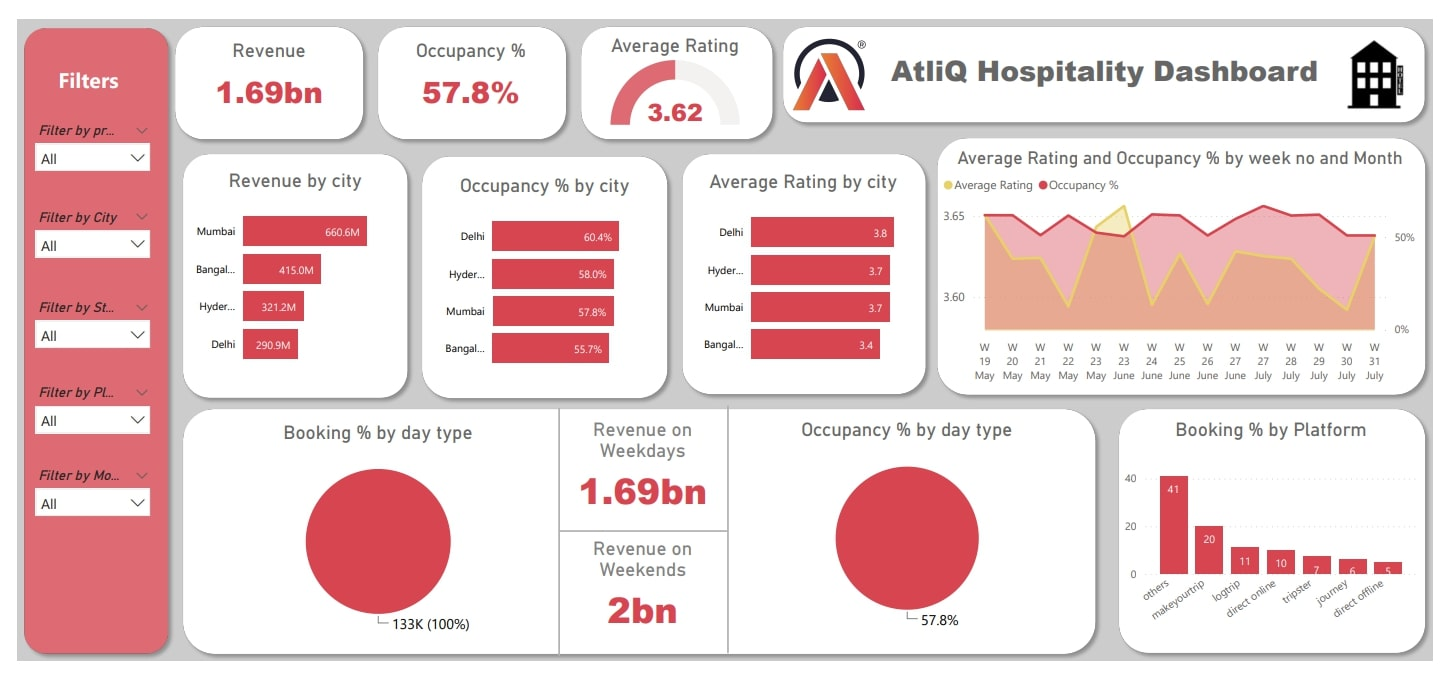

The dashboard page shown, as its layout file describes it:
{"tool":"powerbi","page":{"name":"Duplicate of Dashboard","canvas":[1800,1100],"ordinal":3},"visuals":[{"type":"shape","box":[0,0,1800,83.3],"z":0},{"type":"group","id":"g1","title":"statement","box":[29.4,209.7,566.4,284.3],"z":0,"group":"g4"},{"type":"tableEx","fields":{"Values":["key_measures.Revenue WoW change %"]},"box":[72.7,266.4,105,60],"z":0,"group":"g2"},{"type":"tableEx","fields":{"Values":["key_measures.Realisation WoW change %"]},"box":[465.6,434,130,59],"z":0,"group":"g1"},{"type":"shape","box":[50.8,503.5,533.3,70],"z":0,"group":"g3"},{"type":"shape","box":[1097.2,190,688.3,301.7],"z":1000},{"type":"group","id":"g2","title":"RRD group","box":[29.4,209.7,563.8,116.7],"z":1000,"group":"g1"},{"type":"card","title":"Revenue","fields":{"Values":["key_measures.Revenue"]},"box":[29.4,213.7,171.7,83.3],"z":1000,"group":"g2"},{"type":"group","id":"g3","title":"Group 1","box":[50.8,503.5,533.3,165],"z":1000,"group":"g4"},{"type":"tableEx","fields":{"Values":["dim_date.day_type","key_measures.RevPAR","key_measures.Occupancy %","key_measures.ADR","key_measures.Realisation %"]},"box":[87.5,546.8,463.3,121.7],"z":1000,"group":"g3"},{"type":"shape","box":[633.9,190,453.3,301.7],"z":2000},{"type":"tableEx","fields":{"Values":["key_measures.Revpar WoW change %"]},"box":[274.7,266.2,105.5,58.9],"z":2000,"group":"g2"},{"type":"card","title":"Realisation %","fields":{"Values":["key_measures.Realisation %"]},"box":[421.8,371.7,174,93],"z":2000,"group":"g1"},{"type":"tableEx","fields":{"Values":["key_measures.DSRN WoW change %"]},"box":[473.2,266.7,106,58],"z":3000,"group":"g2"},{"type":"tableEx","fields":{"Values":["key_measures.ADR WoW change %"]},"box":[282.1,432.7,105,61],"z":3000,"group":"g1"},{"type":"shape","box":[630.6,500,1155,493.3],"z":3000},{"type":"card","title":"RevPre","fields":{"Values":["key_measures.RevPAR"]},"box":[228.7,210.7,168,87],"z":4000,"group":"g2"},{"type":"card","title":"ADR","fields":{"Values":["key_measures.ADR"]},"box":[234.3,371.7,163,93],"z":4000,"group":"g1"},{"type":"shape","box":[16.7,693.3,596.7,300],"z":4000},{"type":"shape","box":[632.2,102,1155,80],"z":5000},{"type":"card","title":"DSRN","fields":{"Values":["key_measures.DSRN"]},"box":[425.2,209.7,168,87],"z":5000,"group":"g2"},{"type":"tableEx","fields":{"Values":["key_measures.Occupancy WoW change %"]},"box":[79.8,432.7,123.9,61.3],"z":5000,"group":"g1"},{"type":"shape","box":[15,103.3,596.7,80],"z":6000},{"type":"card","title":"Occupancy","fields":{"Values":["key_measures.Occupancy %"]},"box":[48.8,370.7,161,93],"z":6000,"group":"g1"},{"type":"shape","box":[16.7,191.7,596.7,490],"z":7000},{"type":"tableEx","title":"Property By Key Matrices","fields":{"Values":["dim_hotals.property_id","dim_hotals.property_name","dim_hotals.city","key_measures.Revenue","key_measures.Total Bookings","key_measures.RevPAR","key_measures.Occupancy %","key_measures.ADR","key_measures.DBRN","key_measures.DSRN","key_measures.DURN","key_measures.Realisation %"]},"box":[641.7,516.7,1120,450],"z":8000},{"type":"lineStackedColumnComboChart","title":"Realisation % and ADR  By Platform Booking","fields":{"Category":["fact_booking.booking_platform"],"Y":["key_measures.Realisation %"],"Y2":["key_measures.ADR"]},"box":[28.3,711.7,573.3,278.3],"z":10000},{"type":"group","id":"g4","title":"Group 2","box":[29.4,209.7,566.4,458.8],"z":11000},{"type":"donutChart","fields":{"Y":["key_measures.Revenue"],"Category":["dim_hotals.category"]},"box":[641.7,200,440,281.7],"z":12000},{"type":"lineChart","title":"Trends By Key Matrics","fields":{"Category":["dim_date.mmm yy.Variation.Date Hierarchy.Month","dim_date.week no"],"Y":["key_measures.RevPAR","key_measures.ADR"],"Y2":["key_measures.Occupancy %"]},"box":[1108.9,205,653.3,276.7],"z":13000},{"type":"slicer","fields":{"Values":["dim_hotals.city"]},"box":[51.7,113.3,198.3,61.7],"z":14000},{"type":"slicer","fields":{"Values":["dim_rooms.room_class"]},"box":[335,113.3,210,61.7],"z":15000},{"type":"slicer","fields":{"Values":["dim_date.mmm yy"]},"box":[637.2,108.7,305,61.7],"z":16000},{"type":"slicer","fields":{"Values":["dim_date.week no"]},"box":[1018.9,110,761.7,61.7],"z":17000},{"type":"shape","box":[20,1005,1763.3,83.3],"z":18000},{"type":"textbox","box":[275,1028.3,1300,45],"z":19000},{"type":"textbox","box":[613.3,0,746.7,83.3],"z":19500}]}

Visuals, with their boxes on the page's 1800x1100 design canvas (x1, y1, x2, y2). These are canvas units, not pixel positions in the 1454x680 screenshot, which may show the page scaled, cropped or inside an application window:
shape: (0, 0, 1800, 83)
"statement" group: (29, 210, 596, 494)
tableEx - key_measures.Revenue WoW change %: (73, 266, 178, 326)
tableEx - key_measures.Realisation WoW change %: (466, 434, 596, 493)
shape: (51, 504, 584, 574)
shape: (1097, 190, 1786, 492)
"RRD group" group: (29, 210, 593, 326)
"Revenue" card: (29, 214, 201, 297)
"Group 1" group: (51, 504, 584, 668)
tableEx - dim_date.day_type x key_measures.RevPAR: (88, 547, 551, 668)
shape: (634, 190, 1087, 492)
tableEx - key_measures.Revpar WoW change %: (275, 266, 380, 325)
"Realisation %" card: (422, 372, 596, 465)
tableEx - key_measures.DSRN WoW change %: (473, 267, 579, 325)
tableEx - key_measures.ADR WoW change %: (282, 433, 387, 494)
shape: (631, 500, 1786, 993)
"RevPre" card: (229, 211, 397, 298)
"ADR" card: (234, 372, 397, 465)
shape: (17, 693, 613, 993)
shape: (632, 102, 1787, 182)
"DSRN" card: (425, 210, 593, 297)
tableEx - key_measures.Occupancy WoW change %: (80, 433, 204, 494)
shape: (15, 103, 612, 183)
"Occupancy" card: (49, 371, 210, 464)
shape: (17, 192, 613, 682)
"Property By Key Matrices" tableEx: (642, 517, 1762, 967)
"Realisation % and ADR  By Platform Booking" lineStackedColumnComboChart: (28, 712, 602, 990)
"Group 2" group: (29, 210, 596, 668)
donutChart - key_measures.Revenue x dim_hotals.category: (642, 200, 1082, 482)
"Trends By Key Matrics" lineChart: (1109, 205, 1762, 482)
slicer - dim_hotals.city: (52, 113, 250, 175)
slicer - dim_rooms.room_class: (335, 113, 545, 175)
slicer - dim_date.mmm yy: (637, 109, 942, 170)
slicer - dim_date.week no: (1019, 110, 1781, 172)
shape: (20, 1005, 1783, 1088)
textbox: (275, 1028, 1575, 1073)
textbox: (613, 0, 1360, 83)
